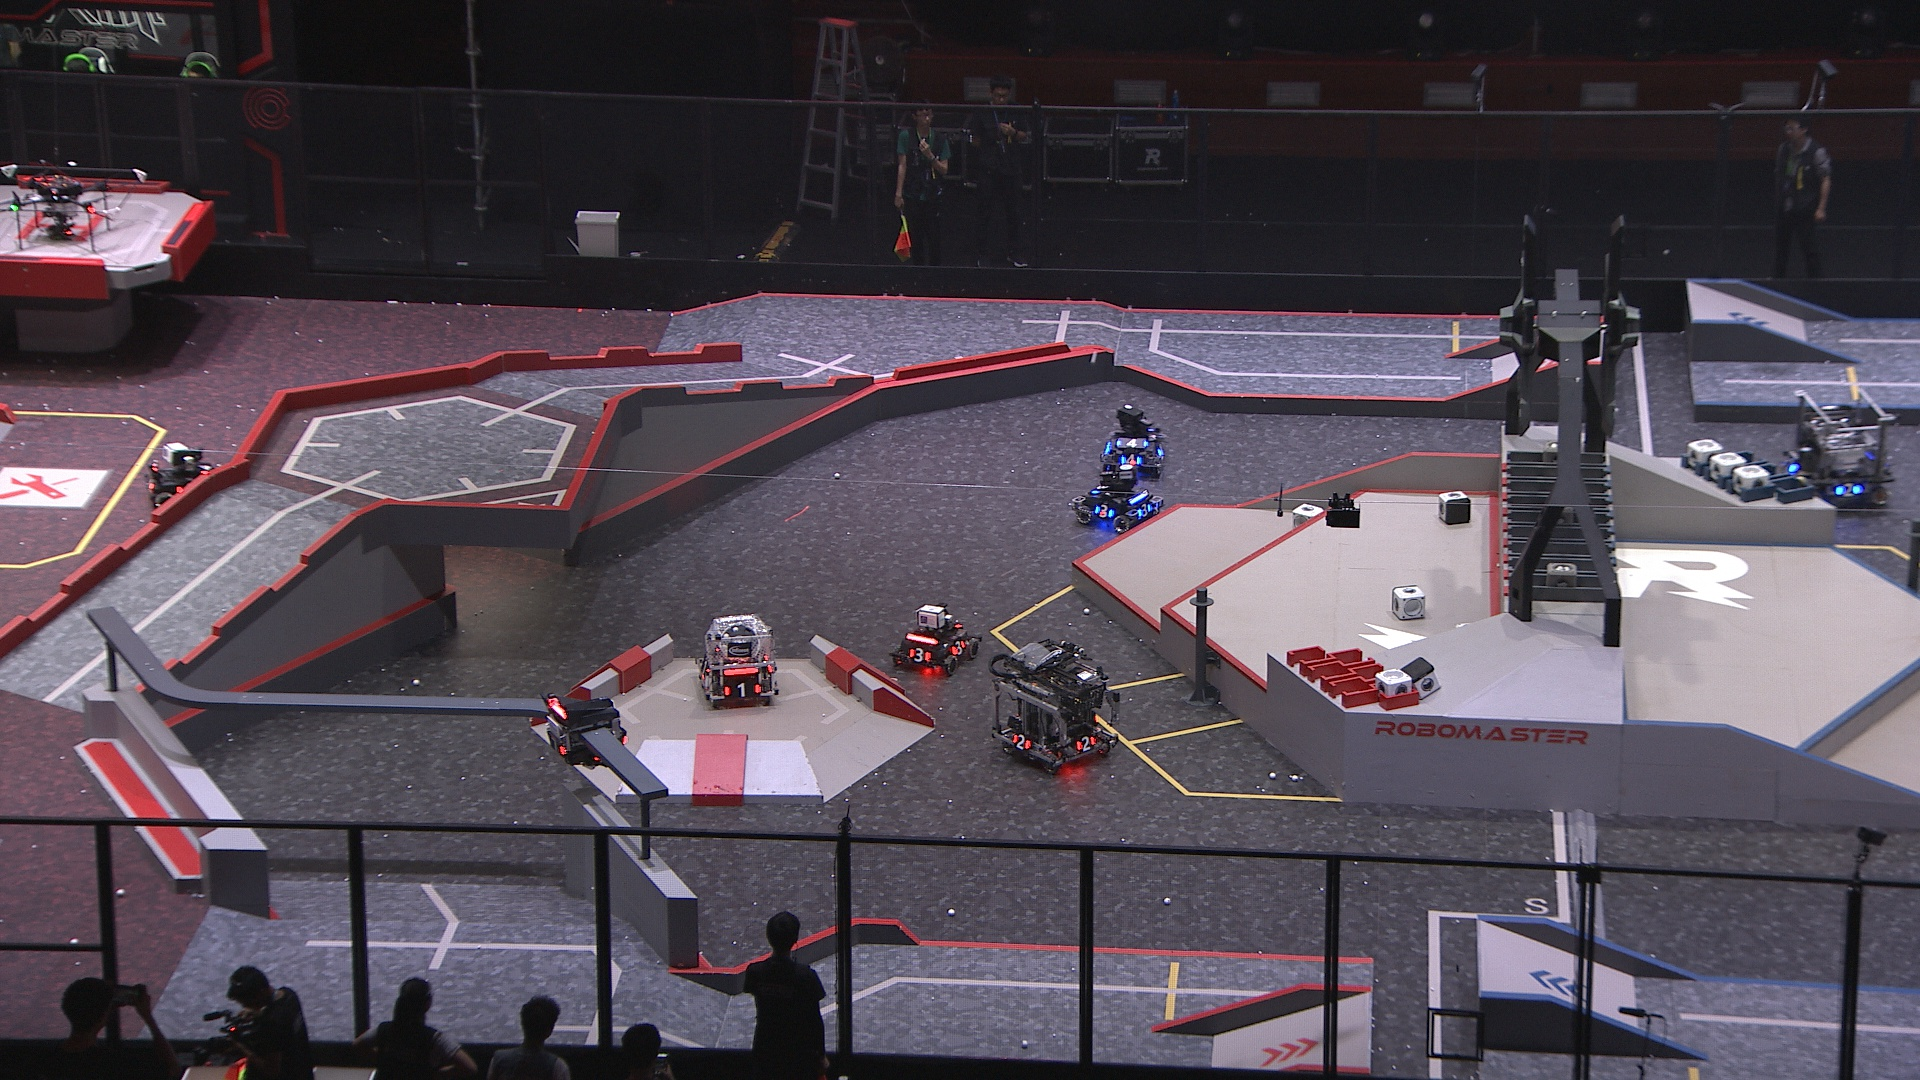armor: (723, 680, 761, 700), (543, 732, 567, 760), (1833, 481, 1865, 498), (906, 646, 934, 665), (1117, 452, 1145, 469), (1073, 733, 1096, 754), (1010, 731, 1033, 752), (1112, 436, 1150, 448), (1093, 502, 1116, 520), (948, 637, 968, 655), (1135, 501, 1153, 520), (1091, 483, 1109, 496), (698, 659, 711, 676)
car: (986, 637, 1124, 777), (1783, 386, 1898, 508), (694, 613, 779, 711), (142, 440, 237, 516), (887, 603, 978, 675), (1069, 465, 1162, 535), (1097, 404, 1168, 479)
watcher: (541, 694, 624, 769)
